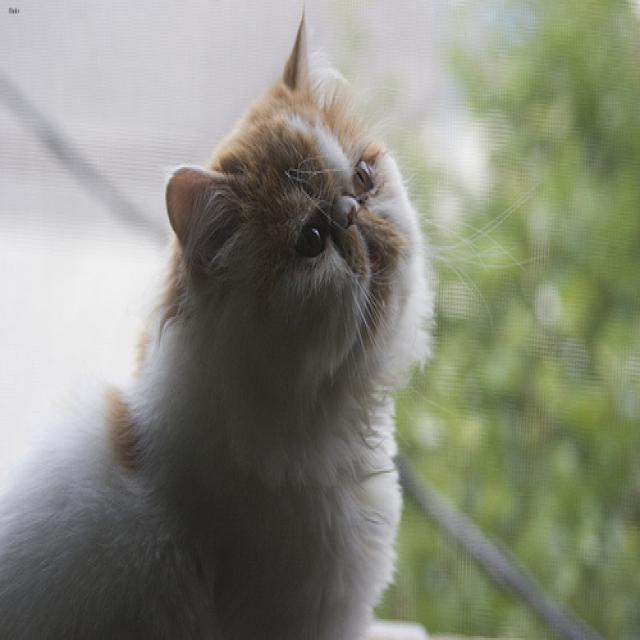Persian: (165, 6, 436, 413)
